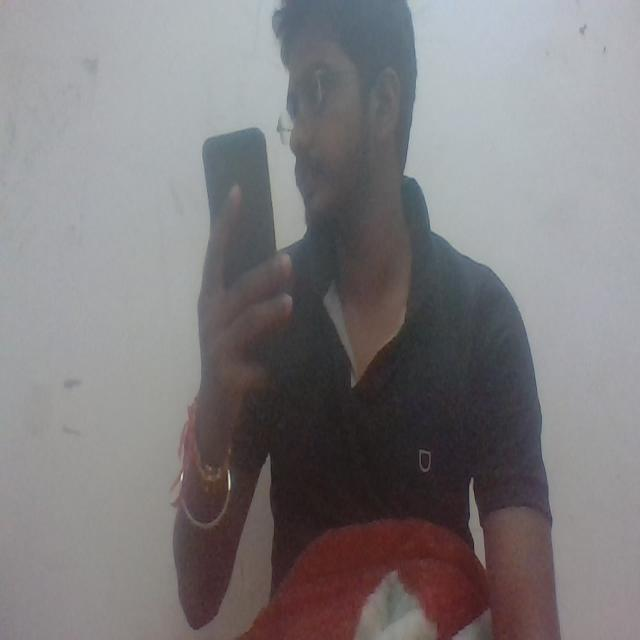Phone: (198, 125, 278, 291)
